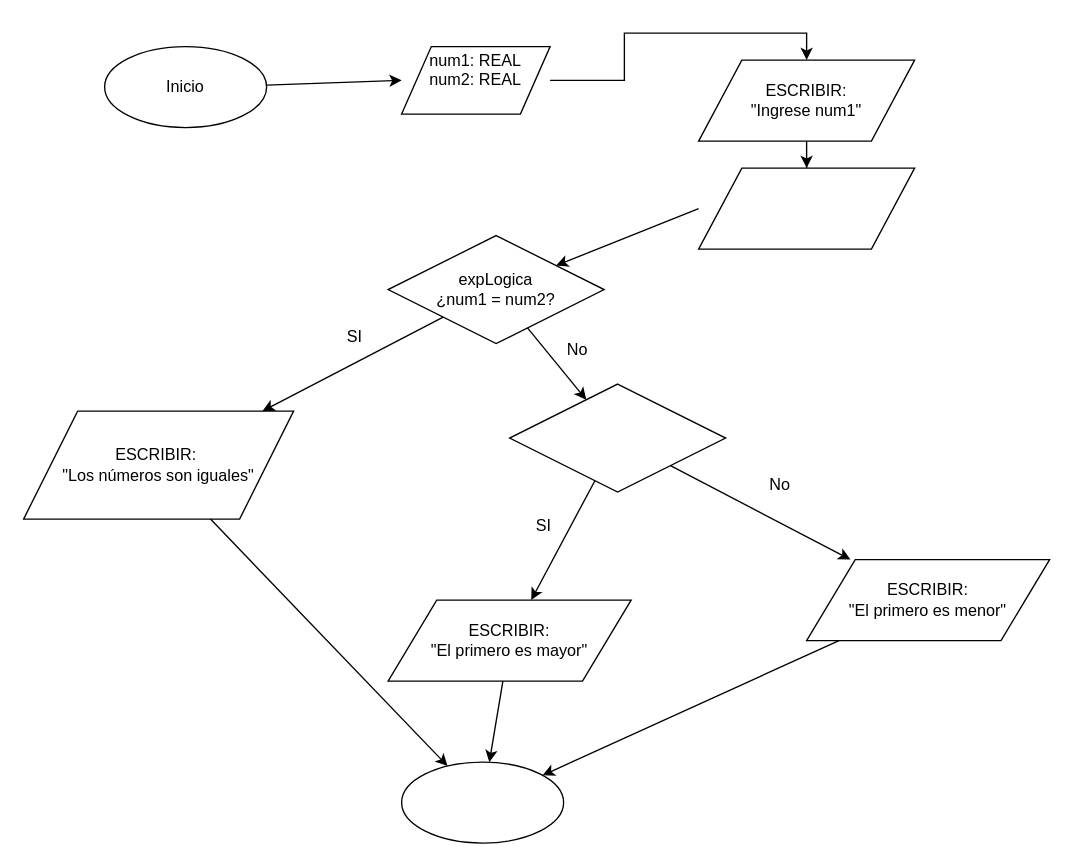
The diagram is 1073 pixels wide and 867 high, and some of its shapes have lost their labels. Here are the shapes that lost their labels. From the top down, the box of each, then its label:
(697, 167, 915, 249): ESCRIBIR: "Ingrese num2"
(508, 383, 726, 492): ¿num1 > num2?
(400, 761, 564, 843): Fin
